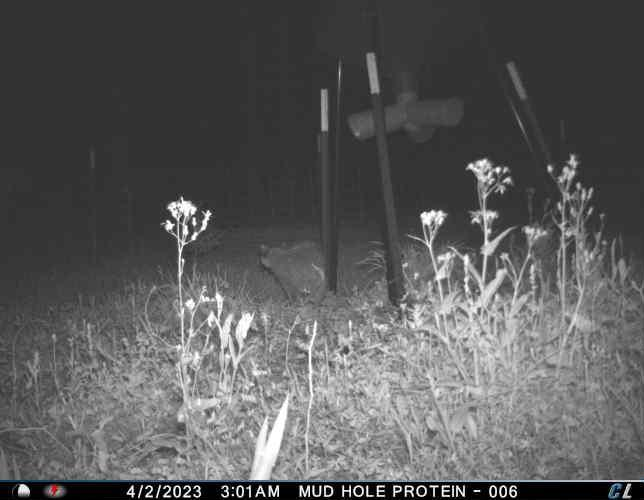Raccoon: (259, 239, 329, 309)
